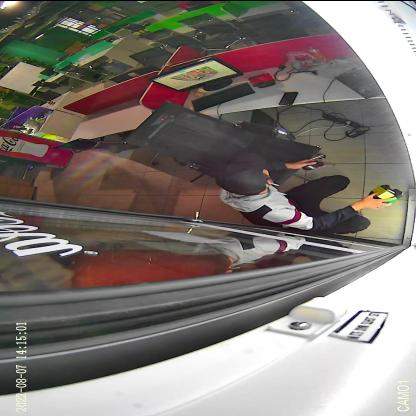green: (382, 188, 404, 202)
yellow: (368, 184, 396, 198)
